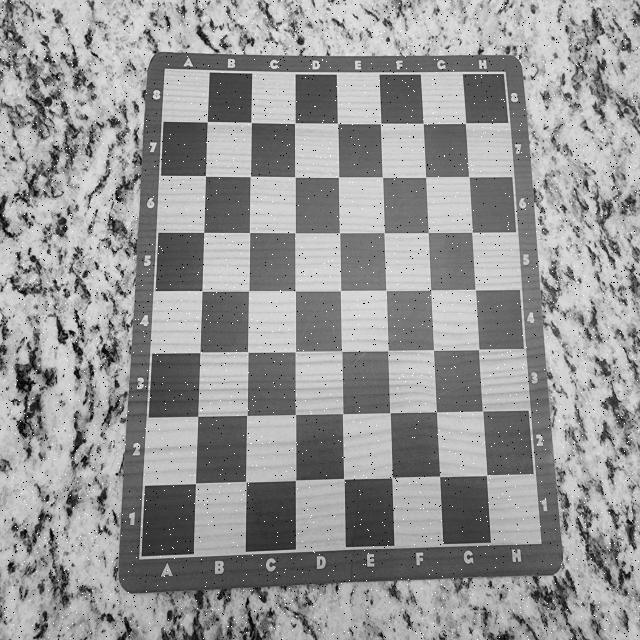Bottom-Left: (140, 484, 196, 559)
Bottom-Right: (489, 476, 541, 544)
Top-Left: (164, 69, 208, 124)
Top-Right: (467, 72, 504, 123)
